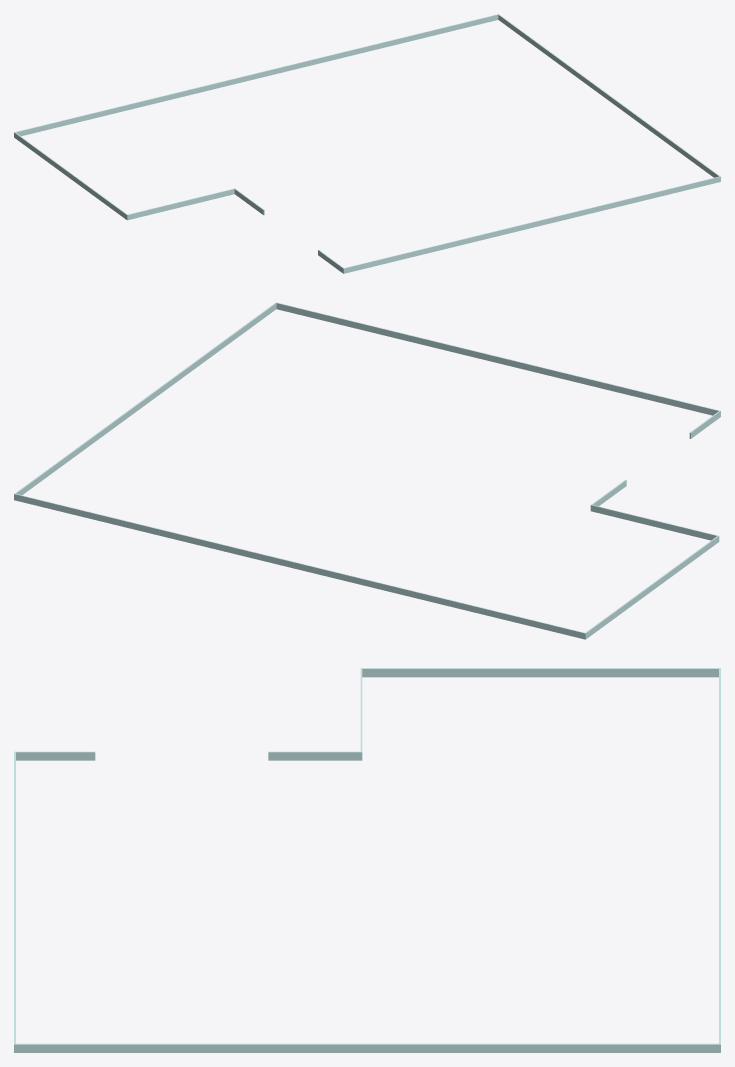
The model's file is qarniz.glb.
The picture shows the model from 3 angles, top to bottom: view 1: azimuth 30°, elevation 25°; view 2: azimuth 150°, elevation 25°; view 3: azimuth 270°, elevation 25°; orthographic projection. The views are drawn at different scales.
Visible parts, largest first — view 1: 3DGeom-1; view 2: 3DGeom-1; view 3: 3DGeom-1.
Part boxes in pixels (x1,y1,x2,y2): 3DGeom-1: (14,14,720,273); 3DGeom-1: (14,302,720,639); 3DGeom-1: (14,668,720,1052).
Size of the model in its own units: 9.7 by 0.1 by 7.7.
